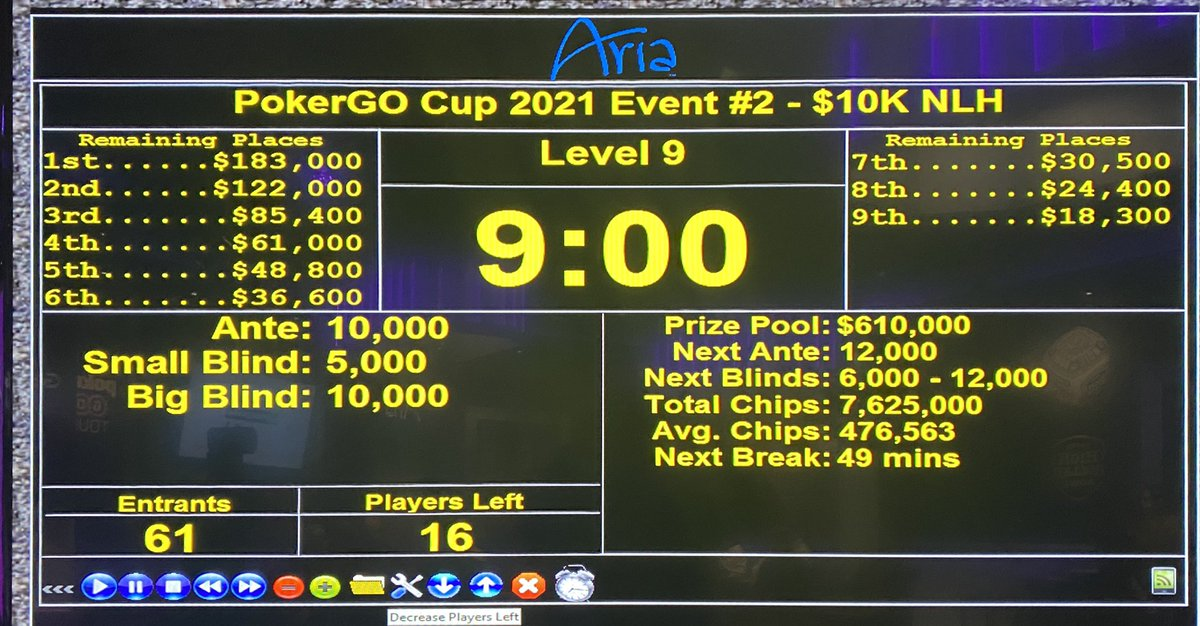PlayersLeft: (296, 483, 606, 557)
Remaining: (836, 125, 1188, 314), (36, 125, 383, 313)
TournamentClock: (31, 77, 1187, 559)
